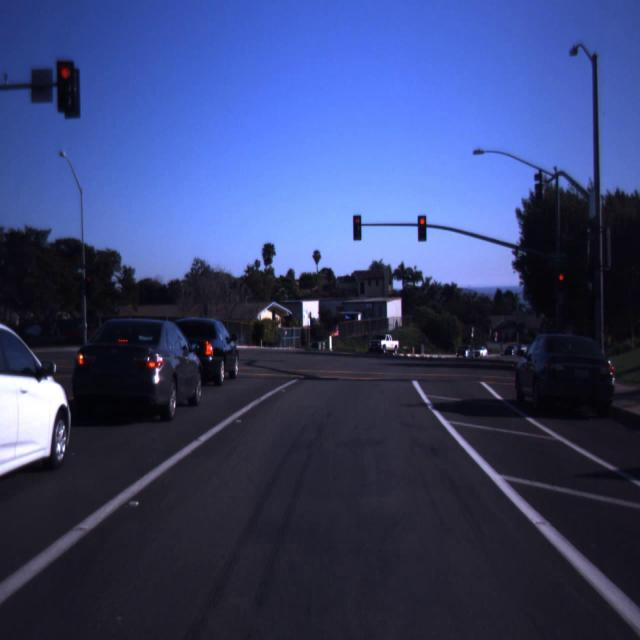kirmizi: (56, 60, 74, 112), (418, 215, 426, 241), (353, 216, 361, 240)
